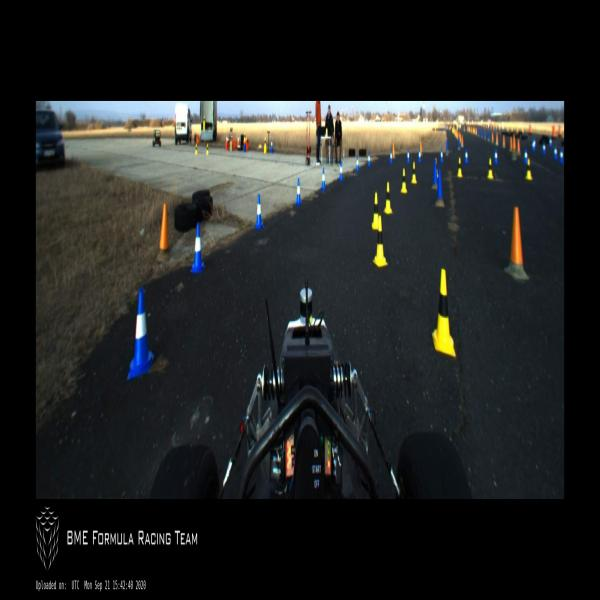blue_cone: (126, 288, 154, 379), (190, 225, 204, 271), (253, 194, 264, 230), (294, 179, 303, 205), (320, 168, 326, 190), (338, 160, 344, 180), (355, 154, 360, 172), (418, 147, 422, 165), (494, 148, 498, 164), (542, 141, 546, 156), (367, 153, 371, 167), (440, 149, 444, 163), (524, 149, 528, 163), (554, 146, 558, 160), (560, 146, 563, 164), (465, 148, 468, 164), (270, 138, 274, 150), (389, 149, 392, 163), (407, 149, 410, 163), (532, 138, 535, 150), (549, 137, 552, 148)
unknown_cone: (506, 206, 530, 279), (160, 203, 169, 255), (436, 168, 444, 208), (432, 158, 438, 189), (392, 141, 396, 158), (516, 137, 520, 153), (509, 136, 513, 152), (513, 135, 517, 150), (495, 131, 499, 144), (446, 140, 449, 154), (503, 134, 506, 146), (491, 132, 494, 143), (461, 134, 464, 145), (420, 139, 422, 155), (487, 130, 490, 140), (459, 133, 462, 142), (484, 129, 486, 140), (458, 139, 460, 149), (475, 127, 477, 135), (472, 126, 474, 134), (470, 126, 472, 132), (456, 132, 458, 138), (458, 132, 460, 138), (481, 128, 482, 138), (478, 127, 479, 136), (474, 126, 475, 135), (469, 126, 470, 132), (468, 125, 468, 132)
yellow_cone: (432, 269, 455, 358), (372, 216, 387, 268), (371, 191, 380, 229), (384, 182, 392, 213), (401, 168, 407, 194), (526, 158, 532, 181), (411, 162, 417, 184), (488, 158, 494, 180), (456, 156, 462, 177), (195, 144, 198, 155), (206, 143, 208, 154), (264, 137, 266, 147), (244, 133, 245, 141), (204, 116, 205, 123)
